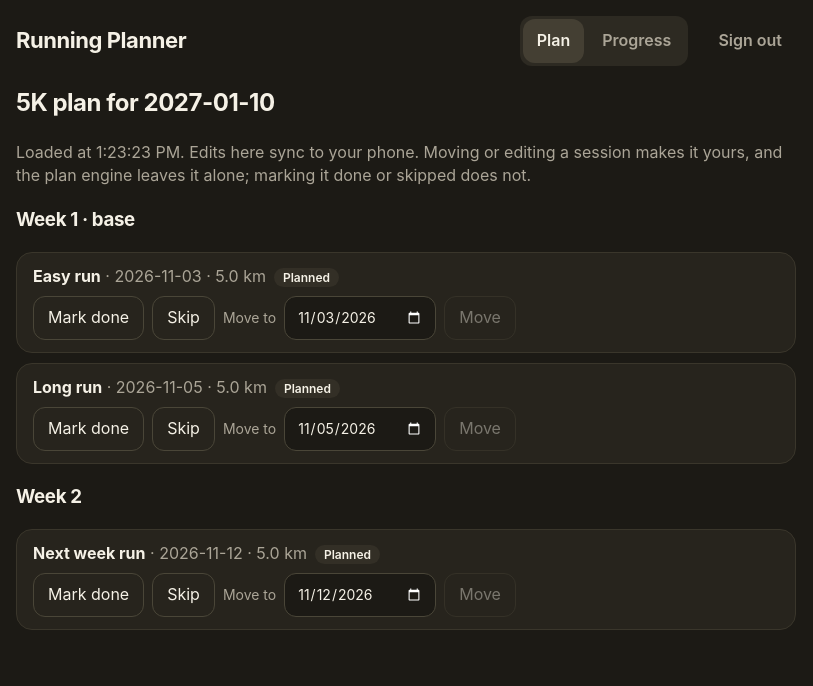
Test case: the plan › says so, and reloads the plan, when the session changed elsewhere
Click the button "Mark done" below "Easy run". click: (89, 318)
box: x1=33 y1=296 x2=144 y2=340
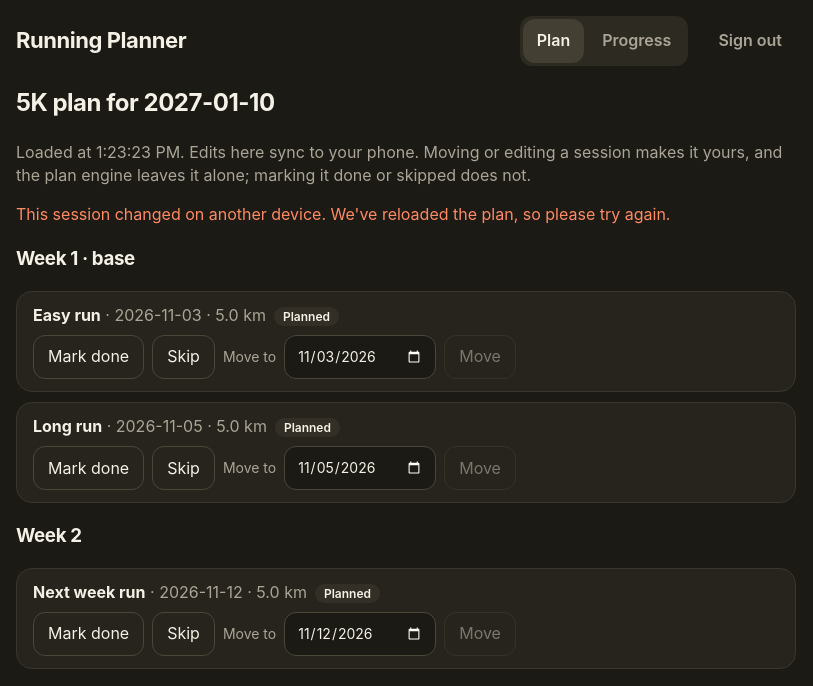
Expected: the message shows "changed on another device", x1=16 y1=204 x2=670 y2=224
